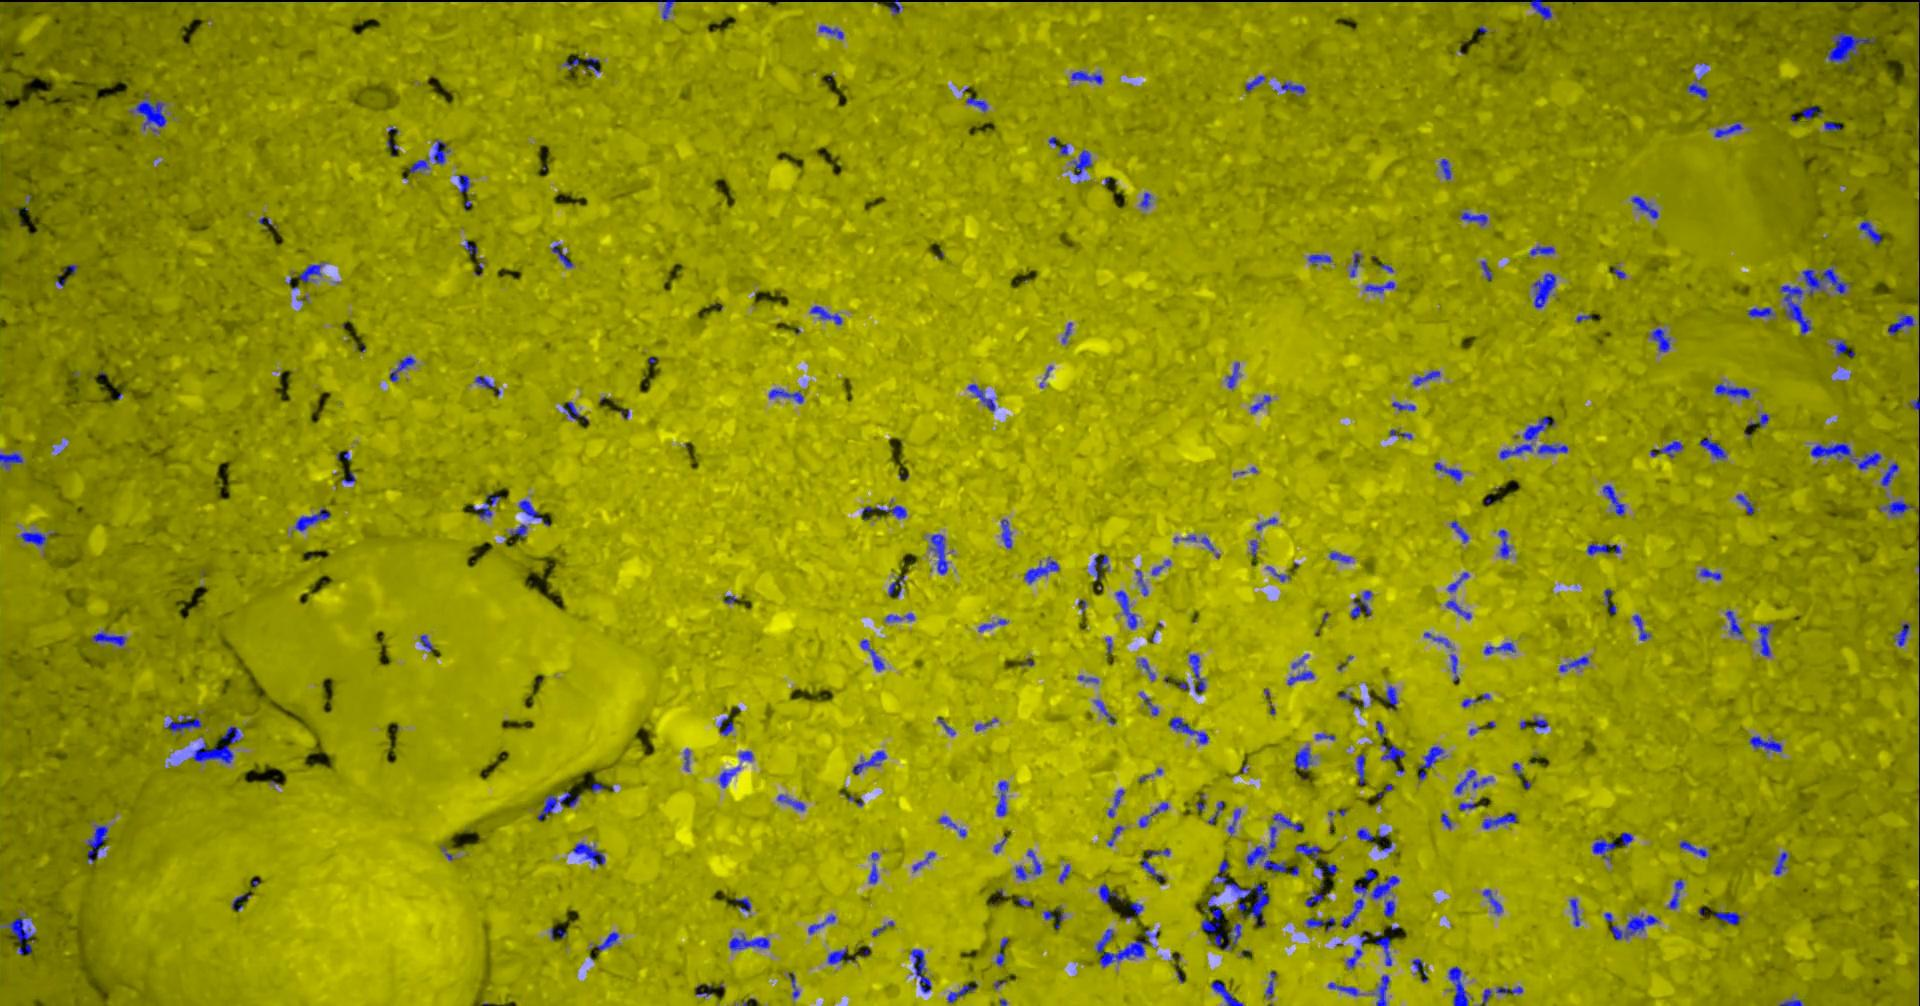ant: (1217, 859, 1269, 926), (1095, 929, 1158, 967), (1498, 417, 1554, 459), (1201, 894, 1241, 949), (1244, 826, 1286, 873), (1810, 443, 1881, 469), (1825, 30, 1874, 62), (1779, 285, 1811, 334), (1603, 912, 1658, 939), (130, 97, 166, 133), (1801, 267, 1848, 295), (537, 790, 580, 819), (6, 912, 33, 954), (1170, 716, 1208, 743), (1454, 768, 1493, 794), (192, 741, 232, 763), (1023, 558, 1059, 583), (1479, 984, 1523, 1005), (1531, 272, 1556, 307), (1115, 589, 1137, 629), (1417, 746, 1443, 779), (852, 749, 886, 774), (910, 949, 930, 992), (1015, 848, 1041, 879), (1210, 981, 1243, 1005), (86, 826, 108, 862), (295, 508, 329, 531), (518, 499, 549, 525), (1448, 967, 1468, 1005), (860, 639, 884, 671), (571, 842, 604, 865), (968, 384, 994, 412), (1138, 801, 1167, 827), (930, 533, 947, 574), (389, 354, 415, 381), (472, 493, 499, 520), (1340, 898, 1363, 929), (1173, 533, 1214, 550), (728, 934, 768, 950), (1370, 875, 1399, 898), (1603, 484, 1624, 514), (1189, 654, 1205, 694), (1630, 196, 1658, 218), (1887, 312, 1915, 335), (809, 305, 842, 324), (861, 506, 905, 520), (1072, 149, 1091, 180), (1350, 589, 1371, 617), (938, 815, 966, 837), (1650, 439, 1683, 457), (808, 913, 836, 934), (166, 714, 201, 730), (1482, 812, 1516, 828), (1858, 220, 1881, 244), (1140, 859, 1164, 882), (428, 138, 450, 164), (1093, 699, 1115, 724), (1591, 838, 1617, 860), (91, 630, 124, 647), (1749, 735, 1782, 752), (474, 375, 500, 395), (1482, 888, 1502, 915), (1374, 934, 1390, 965), (1714, 382, 1749, 398), (768, 387, 803, 403), (1432, 462, 1462, 480), (1699, 438, 1724, 459), (947, 984, 975, 1002), (551, 243, 571, 267), (1098, 883, 1123, 903), (563, 401, 588, 420), (1445, 600, 1470, 619), (1378, 685, 1397, 710), (1272, 813, 1302, 829), (1091, 554, 1109, 580), (1632, 614, 1650, 640), (1679, 840, 1705, 857), (717, 766, 739, 788), (1558, 655, 1589, 671), (912, 851, 935, 871), (1043, 906, 1063, 929), (1070, 70, 1103, 84), (1878, 500, 1911, 514), (1757, 622, 1771, 655), (1107, 789, 1124, 817), (777, 794, 805, 810), (1139, 691, 1158, 715), (297, 264, 323, 282), (1724, 610, 1742, 635), (1667, 879, 1683, 908), (1528, 0, 1550, 19), (1650, 328, 1669, 351), (1879, 462, 1898, 485), (596, 931, 618, 950), (1364, 279, 1394, 293), (1411, 370, 1439, 385), (1686, 79, 1708, 98), (1713, 123, 1742, 137), (1305, 917, 1335, 931), (1375, 976, 1389, 1005), (1450, 520, 1468, 542), (1293, 747, 1310, 770), (996, 780, 1007, 815), (1483, 641, 1515, 654), (827, 948, 851, 964), (1586, 542, 1620, 554), (1250, 394, 1270, 413), (1735, 494, 1754, 514), (1448, 572, 1468, 591), (1288, 669, 1313, 685), (1294, 842, 1319, 857), (1327, 982, 1357, 995), (1411, 958, 1427, 981), (1460, 211, 1487, 225), (20, 531, 47, 545), (1423, 633, 1450, 647), (1497, 528, 1510, 558), (1895, 622, 1910, 647), (1834, 338, 1854, 356), (1345, 948, 1363, 968), (0, 452, 22, 469), (888, 575, 904, 597), (1138, 658, 1154, 680), (818, 24, 843, 38), (1225, 362, 1239, 387), (978, 619, 1006, 631), (1462, 694, 1490, 706), (1382, 744, 1404, 760), (1208, 800, 1223, 823), (658, 0, 676, 19), (1227, 808, 1239, 835), (1713, 911, 1740, 923), (1263, 970, 1276, 997), (221, 727, 241, 743), (1106, 826, 1123, 846), (871, 921, 893, 936), (1280, 81, 1305, 94), (1603, 588, 1615, 614), (1698, 567, 1721, 580), (1773, 851, 1787, 874), (996, 937, 1007, 965), (1244, 75, 1263, 91), (231, 893, 250, 909), (1537, 443, 1567, 453), (787, 972, 799, 998), (965, 97, 987, 111), (1801, 105, 1822, 119), (1747, 413, 1769, 427), (1304, 890, 1322, 907), (1349, 253, 1361, 276), (1255, 517, 1277, 530), (1135, 569, 1147, 594), (1746, 307, 1774, 318), (1001, 520, 1011, 547), (717, 715, 731, 735), (1568, 898, 1578, 926), (1439, 158, 1451, 179), (1316, 862, 1337, 875), (869, 852, 877, 883), (1529, 245, 1554, 255), (457, 174, 471, 192), (1307, 254, 1331, 264), (409, 159, 428, 171), (1356, 753, 1364, 784), (509, 525, 526, 539), (420, 634, 433, 652), (1383, 899, 1396, 917), (885, 614, 914, 621), (1481, 260, 1492, 279), (1058, 862, 1069, 882), (1390, 401, 1415, 410), (585, 57, 599, 72), (463, 239, 477, 254), (735, 897, 750, 911), (1450, 654, 1458, 681), (1147, 848, 1170, 857), (888, 0, 902, 14), (1328, 553, 1350, 561), (1139, 192, 1150, 208), (1356, 828, 1373, 840), (1823, 121, 1841, 131), (1129, 902, 1143, 915), (1620, 831, 1632, 846), (1533, 716, 1547, 728), (1778, 998, 1802, 1005), (738, 749, 752, 760)
